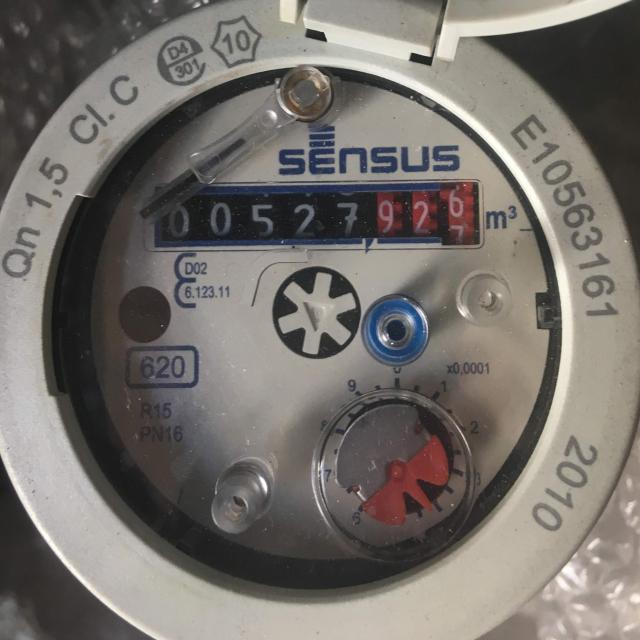gaz_meter: (83, 71, 554, 558)
indication: (153, 181, 482, 247)
